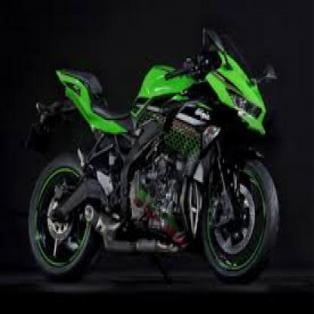Motocicleta: (24, 22, 282, 285)
